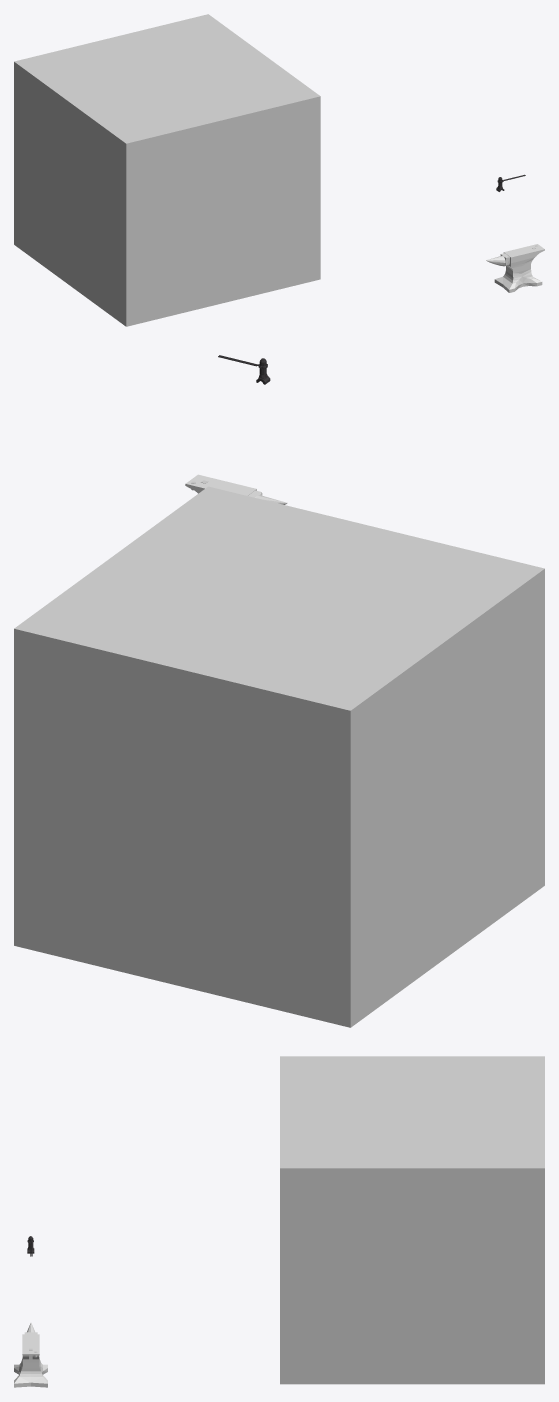
The model's file is topswage.dae.
The picture shows the model from 3 angles, top to bottom: view 1: azimuth 30°, elevation 25°; view 2: azimuth 150°, elevation 25°; view 3: azimuth 270°, elevation 25°; orthographic projection. The views are drawn at different scales.
Parts seen in each view (by area): view 1: Cube_004, Cube_002; view 2: Cube_004, Cube_002; view 3: Cube_004, Cube_002.
Boxes of the visible parts, x1=… form: Cube_004: x1=14, y1=14, x2=320, y2=326; Cube_002: x1=486, y1=244, x2=544, y2=292; Cube_004: x1=14, y1=486, x2=544, y2=1027; Cube_002: x1=185, y1=474, x2=287, y2=504; Cube_004: x1=280, y1=1056, x2=544, y2=1384; Cube_002: x1=14, y1=1322, x2=47, y2=1387.
Size of the model in its own units: 3.18 by 4.01 by 1.8.
Materials: 1 (1 with a texture image).
